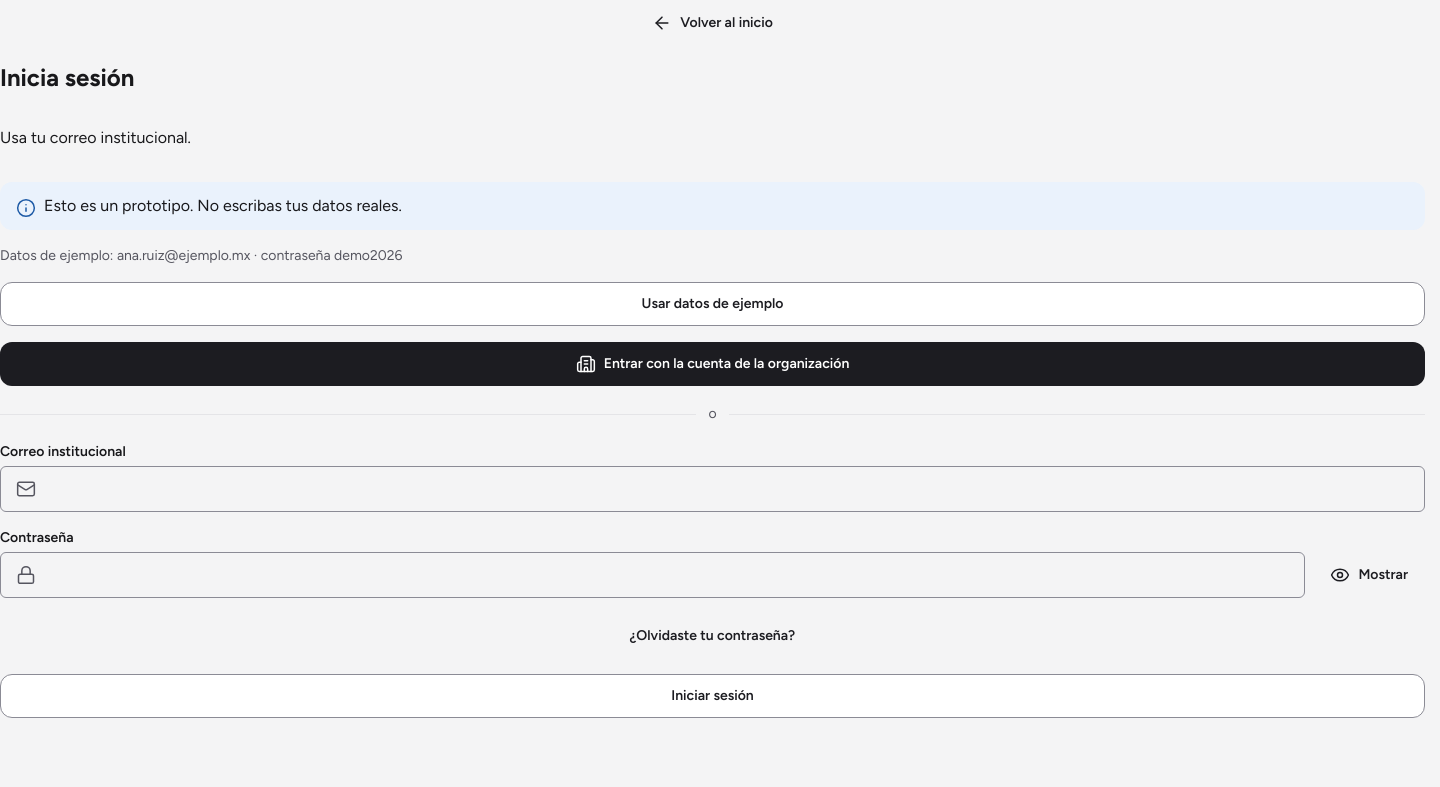
A1 sign-in view › S-A1-2: a malformed email gets the incomplete-email message
Type "ana" into the field labelled "Correo institucional" at coordinates (712, 489), box [0,466,1425,512]
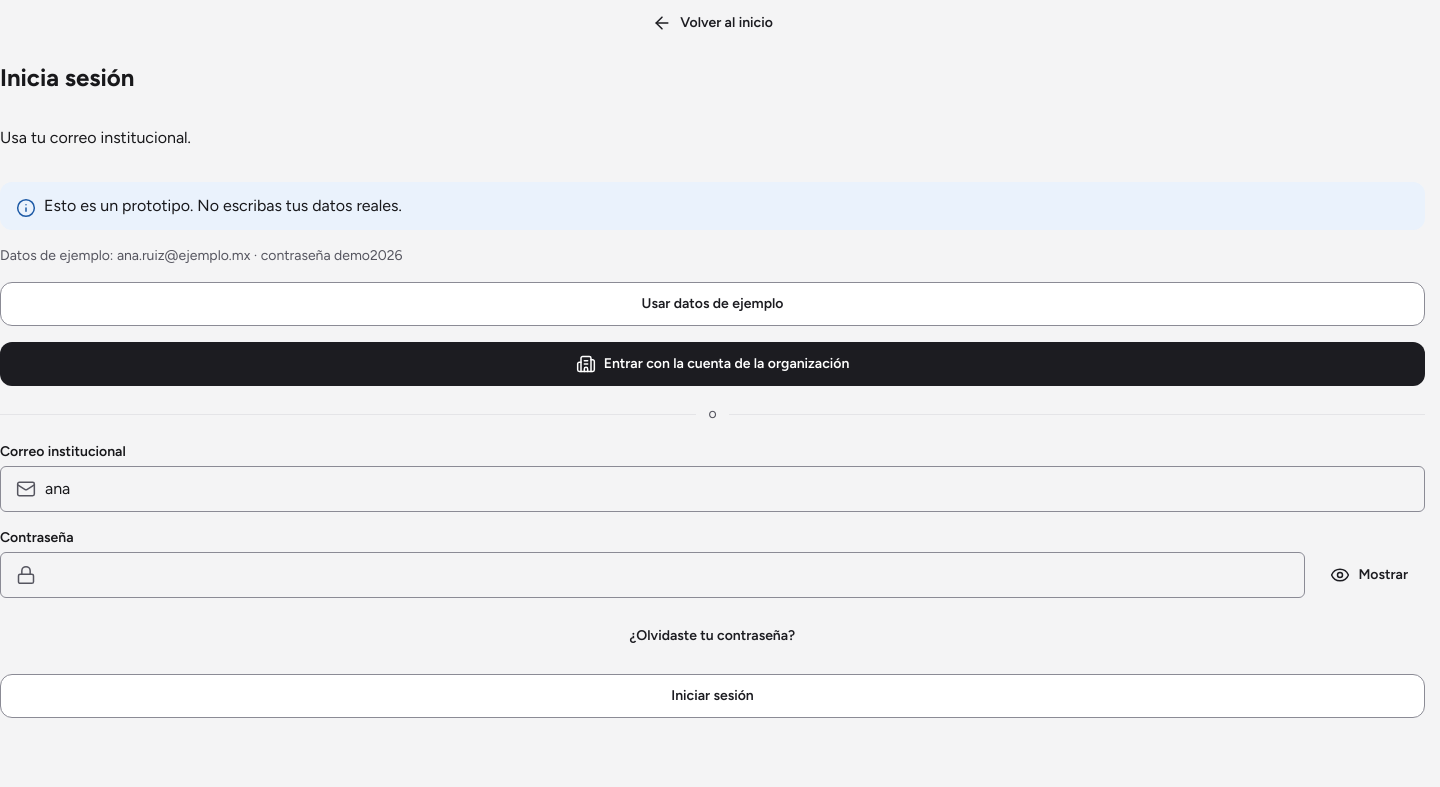
Type "x" into the password field labelled "Contraseña" at coordinates (653, 575), box [0,552,1305,598]
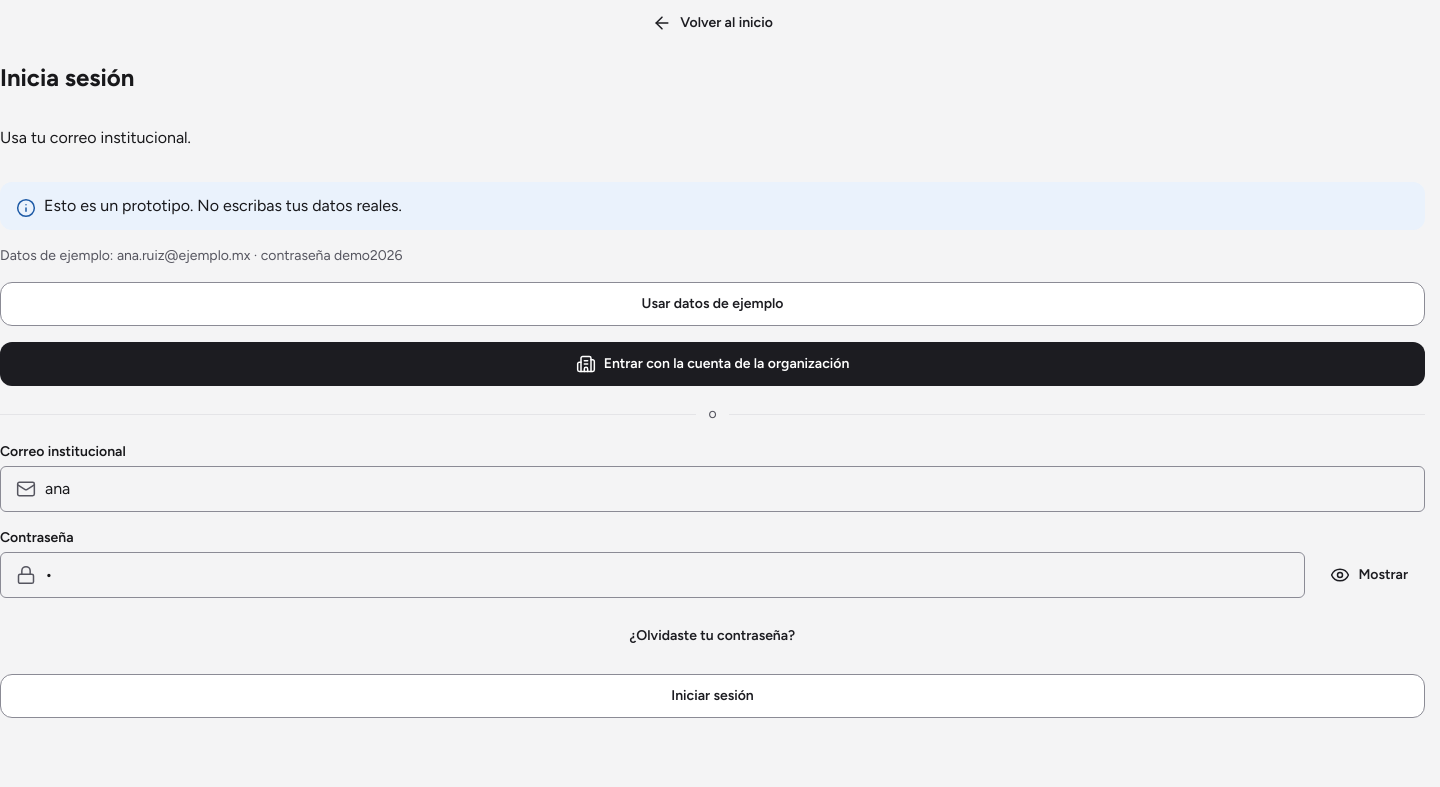
Click the button "Iniciar sesión" at coordinates (712, 696), box [0,674,1425,718]
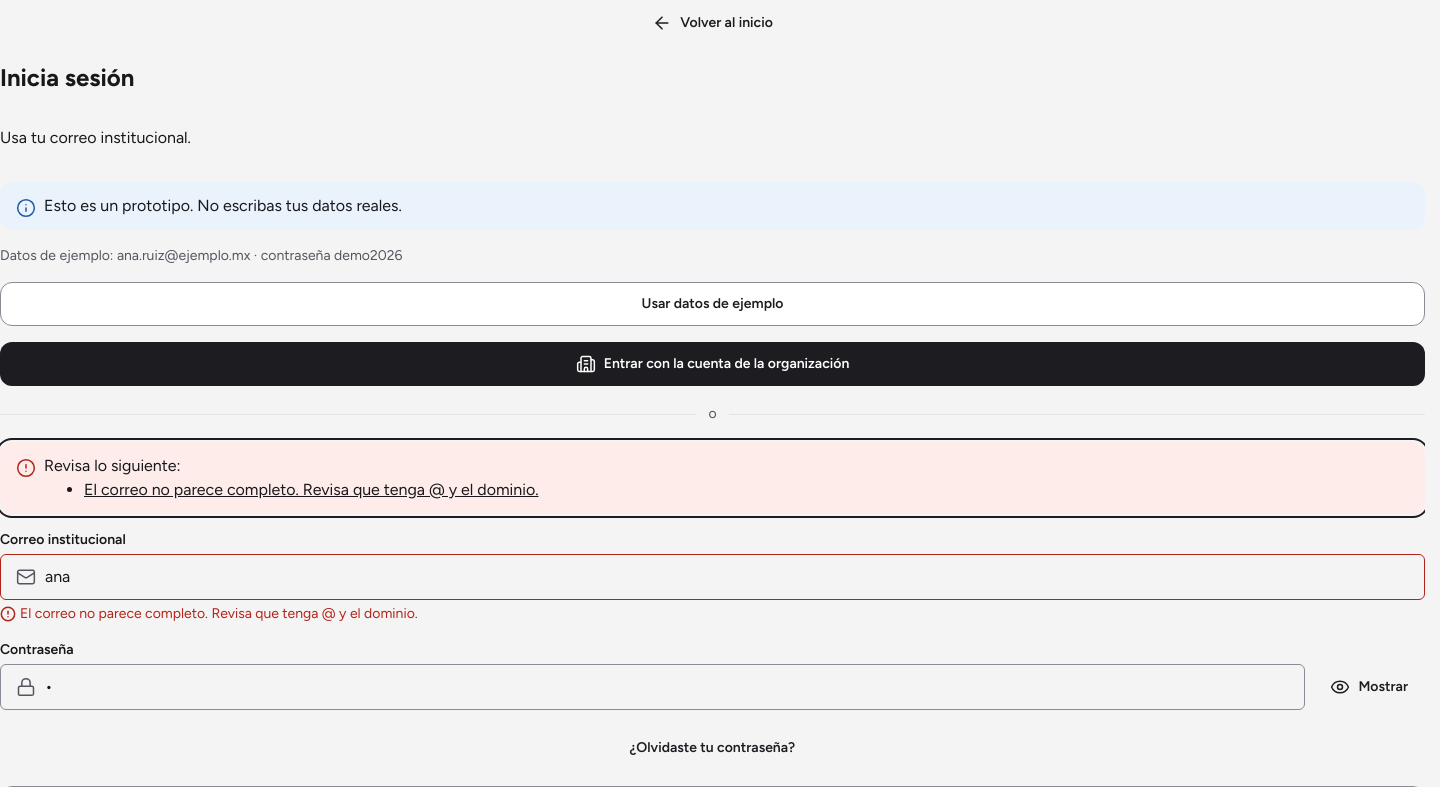
expect the number of links "El correo no parece completo. Revisa que tenga @ y el dominio." is 2: met, box [84,480,538,499]; [0,605,418,622]
